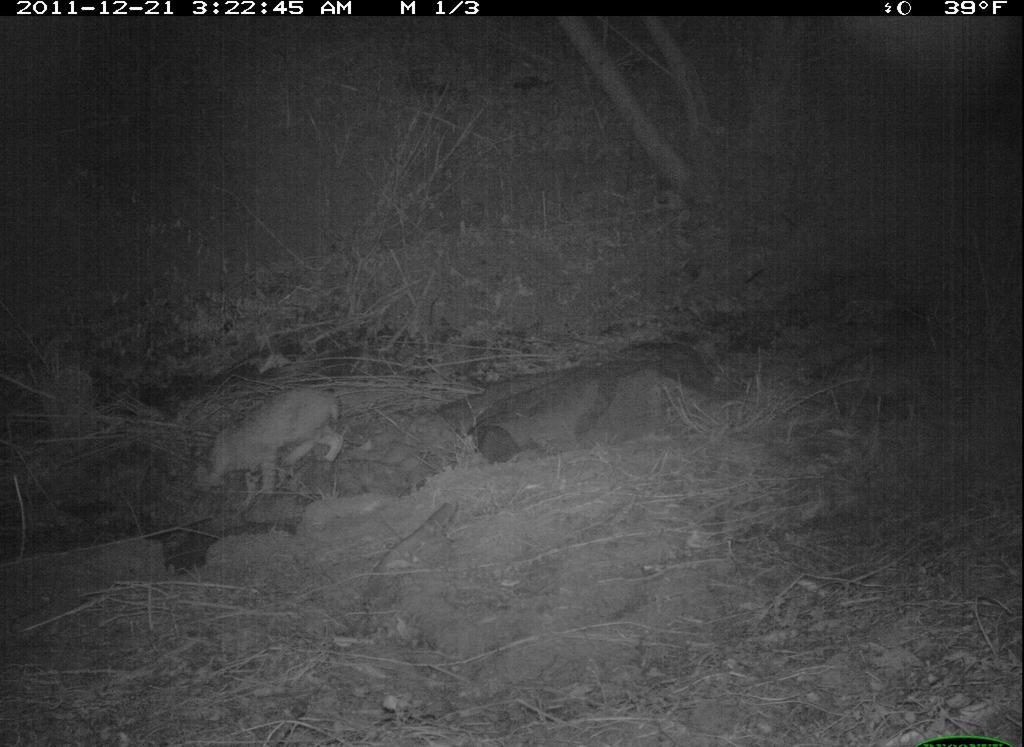bobcat: (189, 369, 361, 513)
